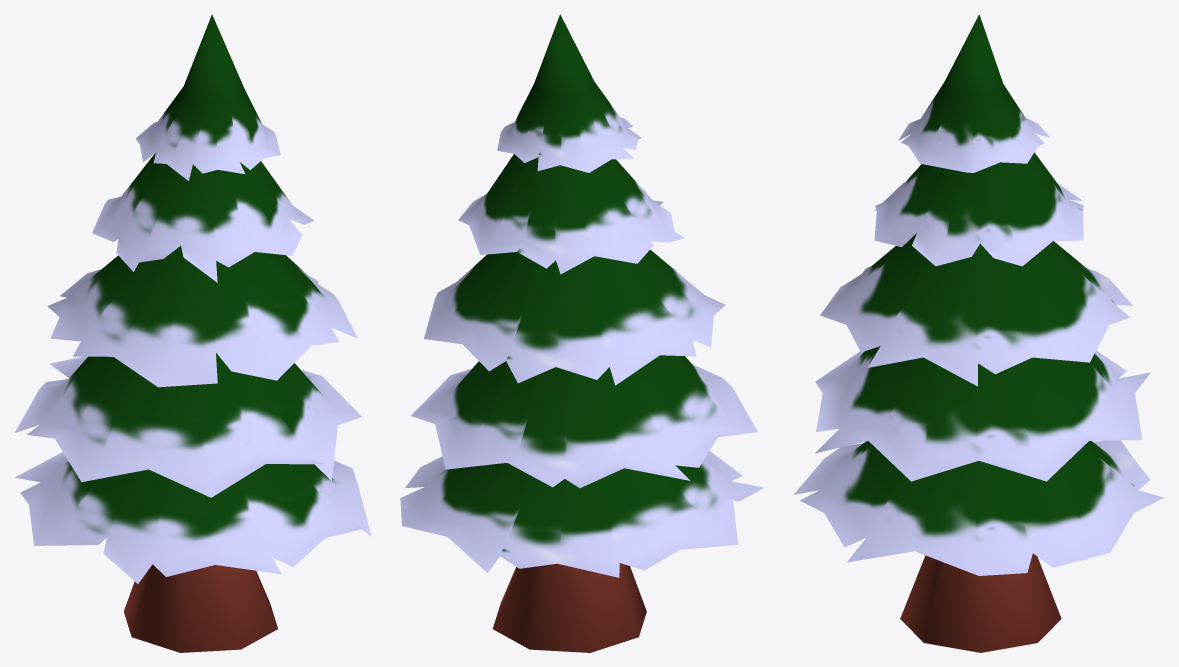
The model's file is pino3.glb.
3 renders of one model, left to right at view 1: azimuth 30°, elevation 25°; view 2: azimuth 150°, elevation 25°; view 3: azimuth 270°, elevation 25°, orthographic.
Visible parts, largest first — view 1: Cylinder.008, Cylinder.009, Cylinder.007, Cylinder.010, Cylinder.011, tronco3; view 2: Cylinder.008, Cylinder.007, Cylinder.009, Cylinder.010, Cylinder.011, tronco3; view 3: Cylinder.007, Cylinder.008, Cylinder.009, Cylinder.010, Cylinder.011, tronco3.
Boxes of the visible parts, x1,y1,x2,y2 form: Cylinder.008: (14, 353, 361, 497); Cylinder.009: (47, 246, 357, 387); Cylinder.007: (15, 452, 371, 583); Cylinder.010: (92, 152, 314, 282); Cylinder.011: (136, 14, 280, 180); tronco3: (123, 564, 277, 652); Cylinder.008: (411, 355, 757, 488); Cylinder.007: (400, 451, 763, 577); Cylinder.009: (424, 249, 725, 385); Cylinder.010: (458, 154, 683, 274); Cylinder.011: (497, 14, 641, 172); tronco3: (492, 563, 646, 652); Cylinder.007: (793, 440, 1163, 575); Cylinder.008: (815, 346, 1150, 481); Cylinder.009: (820, 233, 1132, 386); Cylinder.010: (874, 152, 1083, 266); Cylinder.011: (898, 14, 1049, 172); tronco3: (900, 553, 1061, 652).
Size of the model in its own units: 5.45 by 9.89 by 5.45.
2 materials, 1 textured.
